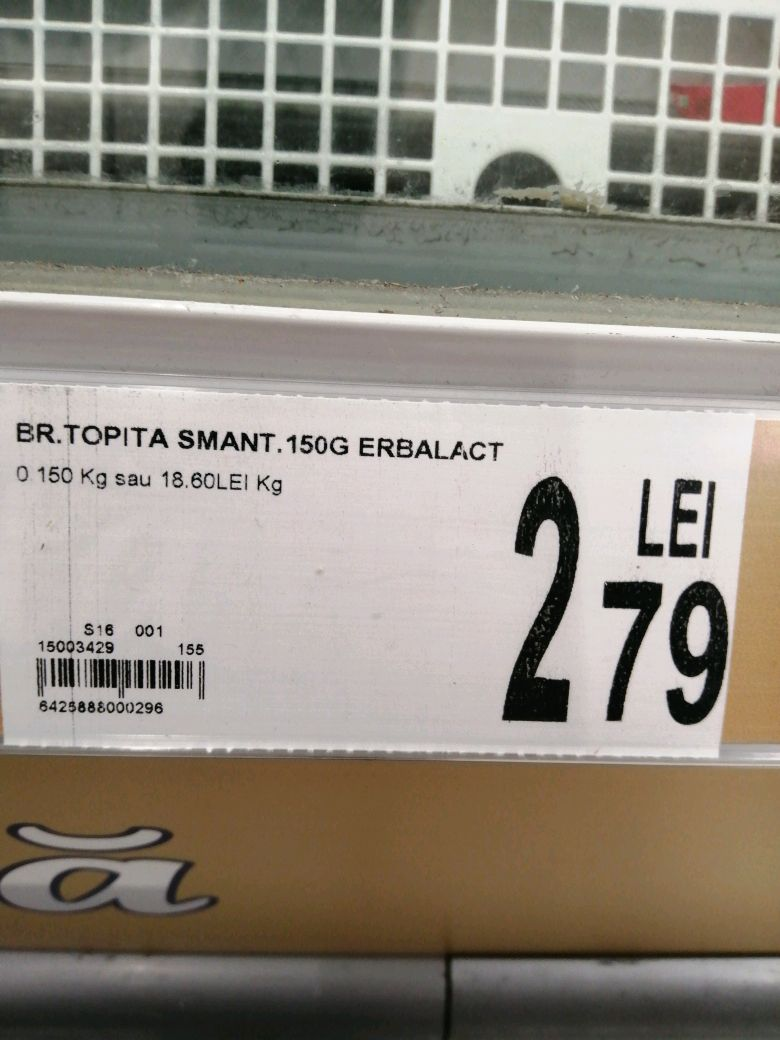price_bani: (596, 565, 732, 731)
price_lei: (489, 471, 589, 730)
price_tag: (3, 377, 755, 774)
product_id: (32, 696, 173, 723)
product_name: (4, 417, 524, 467)
